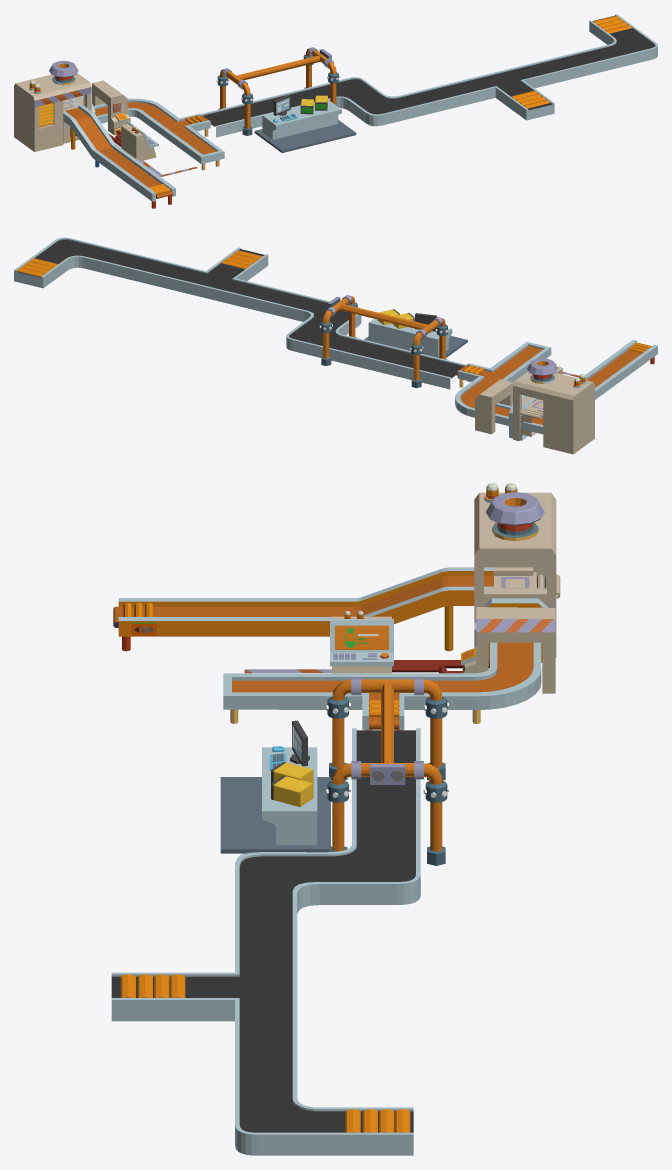
File: LvDai5_Mo.fbx
3 renders of one model, top to bottom at view 1: azimuth 30°, elevation 25°; view 2: azimuth 150°, elevation 25°; view 3: azimuth 270°, elevation 25°, orthographic. The views are drawn at different scales.
Parts seen in each view (by area): view 1: Gen04_lv1_0; view 2: Gen04_lv1_0; view 3: Gen04_lv1_0.
Part boxes in pixels (x1=…): Gen04_lv1_0: x1=14, y1=14, x2=657, y2=208; Gen04_lv1_0: x1=14, y1=237, x2=657, y2=454; Gen04_lv1_0: x1=111, y1=483, x2=560, y2=1155.
Size of the model in its own units: 5515 by 649 by 1889.
